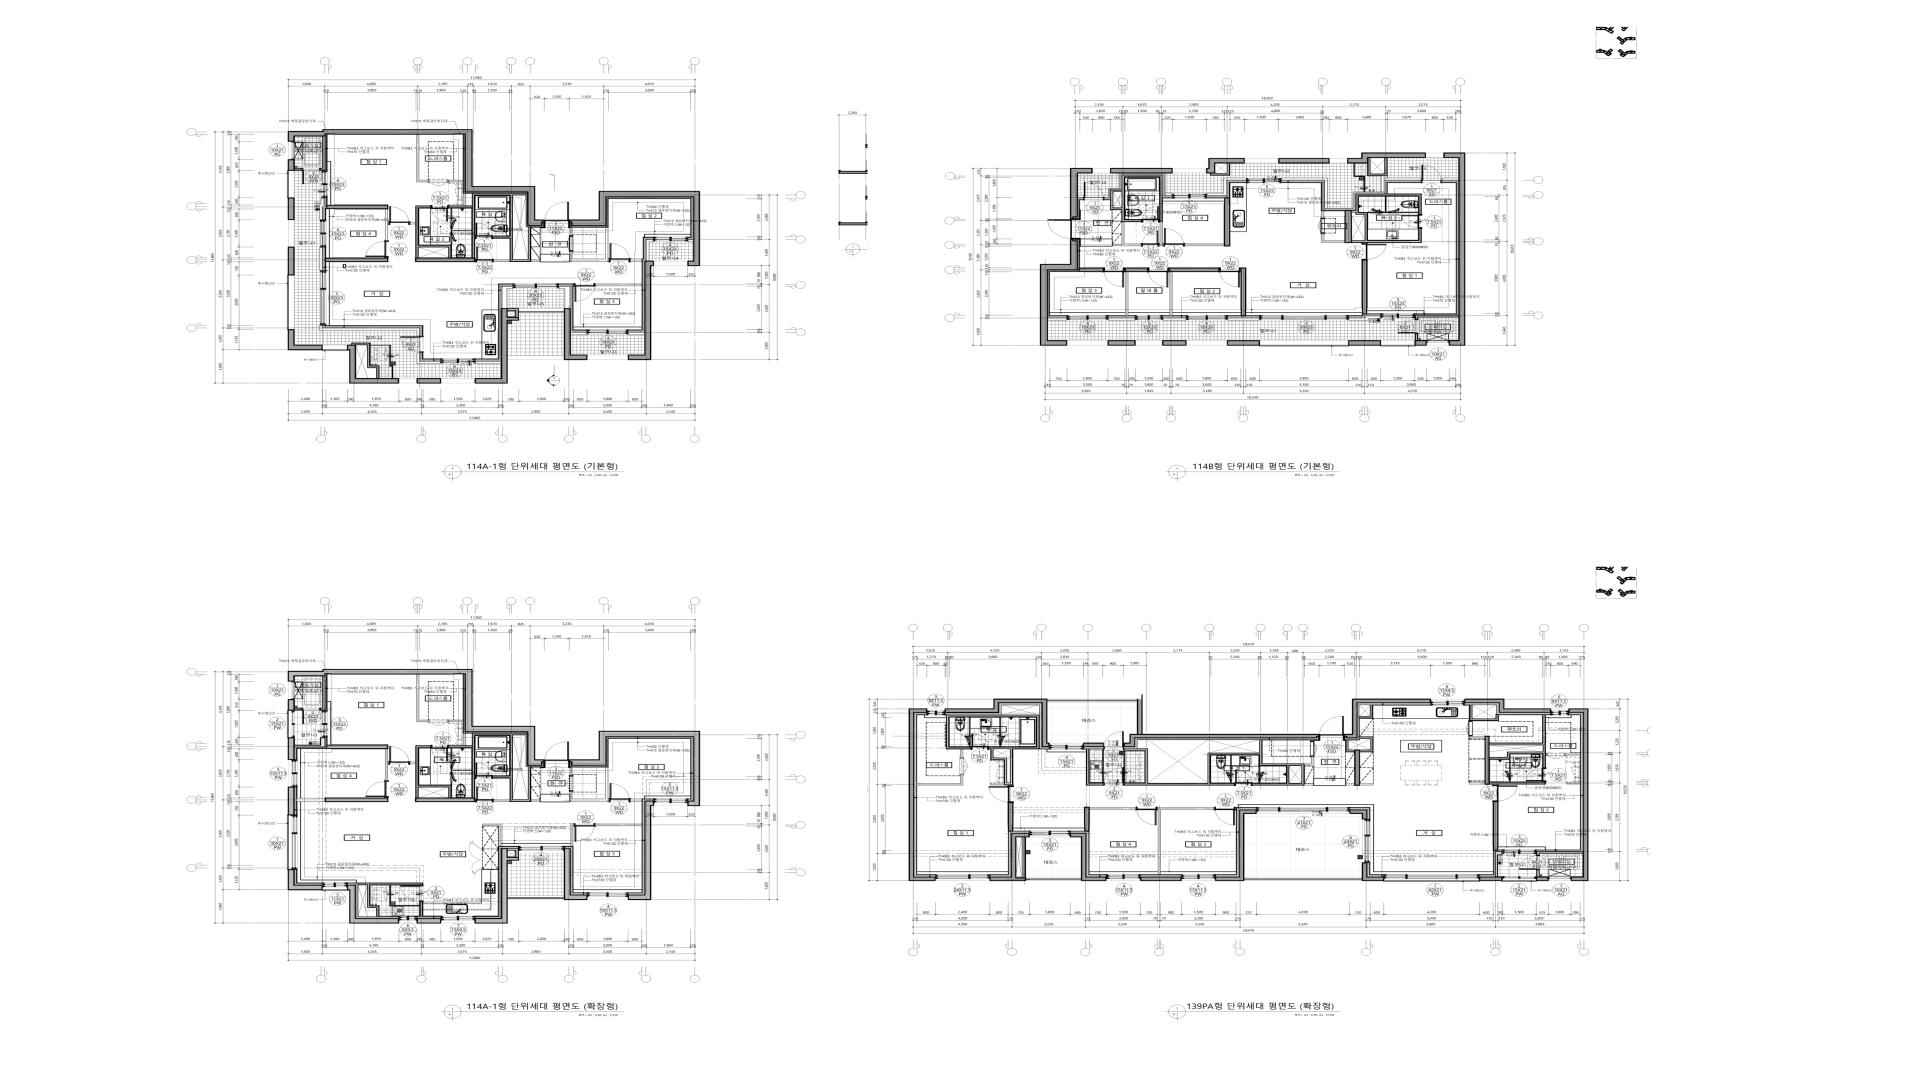door: (543, 742, 570, 769), (1047, 219, 1081, 239), (543, 203, 570, 228), (1319, 716, 1344, 741), (1361, 243, 1387, 261), (608, 783, 630, 803), (608, 243, 630, 262), (1218, 268, 1241, 287), (1147, 268, 1170, 287), (1102, 268, 1125, 287), (1493, 785, 1518, 802), (989, 786, 1014, 803), (388, 207, 410, 225), (365, 781, 389, 798), (574, 284, 595, 302), (1215, 807, 1236, 825), (1137, 807, 1158, 825), (574, 823, 595, 841), (388, 746, 409, 765), (1163, 228, 1184, 247), (400, 886, 423, 902), (365, 241, 389, 257), (400, 336, 423, 352), (1104, 732, 1124, 750), (1104, 767, 1124, 786), (1422, 165, 1441, 183), (1084, 182, 1104, 200), (1519, 855, 1540, 870), (475, 762, 493, 779), (971, 733, 989, 750), (302, 167, 320, 185), (1526, 767, 1547, 782), (1398, 319, 1419, 334), (431, 745, 448, 762), (1142, 206, 1159, 223), (302, 708, 320, 724), (1234, 770, 1253, 786), (475, 787, 493, 803), (475, 247, 493, 262), (475, 223, 493, 239), (1402, 215, 1423, 228), (431, 206, 448, 222), (1142, 231, 1159, 247), (1545, 753, 1565, 760), (429, 179, 448, 186), (960, 760, 968, 774), (429, 720, 448, 725), (1319, 218, 1325, 233), (1466, 721, 1473, 736)
wall: (287, 669, 543, 766), (287, 129, 543, 225), (570, 191, 700, 266), (570, 731, 700, 806), (1124, 699, 1319, 748), (1124, 740, 1313, 786), (945, 715, 1039, 786), (448, 733, 539, 802), (448, 194, 539, 262), (944, 699, 1050, 748), (909, 708, 935, 881), (1444, 153, 1465, 345), (1040, 239, 1077, 345), (1158, 807, 1215, 874), (1110, 175, 1163, 247), (1344, 699, 1431, 738), (475, 848, 520, 924), (1569, 708, 1589, 881), (1352, 194, 1422, 243), (475, 309, 520, 384), (1490, 715, 1545, 767), (1216, 810, 1257, 881), (628, 800, 654, 901), (628, 261, 654, 360), (409, 745, 452, 798), (359, 882, 423, 916), (410, 206, 452, 257), (347, 885, 400, 924), (347, 345, 400, 384), (989, 833, 1030, 881), (1367, 158, 1422, 193), (1069, 833, 1106, 881), (1282, 178, 1328, 208), (570, 228, 608, 262), (570, 767, 608, 802), (564, 848, 588, 901), (1465, 699, 1551, 713), (1069, 167, 1093, 219), (564, 309, 587, 360), (319, 326, 419, 336), (351, 343, 380, 378), (1348, 153, 1425, 164), (287, 330, 322, 351), (287, 869, 322, 890), (1207, 178, 1246, 195), (1087, 749, 1104, 786), (417, 675, 429, 723), (417, 135, 429, 182), (1207, 158, 1245, 173), (916, 774, 963, 786), (1469, 705, 1499, 721), (1245, 877, 1362, 881), (1362, 862, 1385, 881), (483, 824, 501, 847), (1110, 167, 1172, 174), (1047, 699, 1137, 703), (326, 257, 388, 262), (1493, 802, 1499, 851), (1224, 198, 1230, 247), (327, 204, 388, 210), (294, 737, 324, 748), (415, 257, 475, 262), (1362, 261, 1367, 315), (1278, 158, 1329, 164), (501, 286, 513, 309), (1485, 736, 1490, 785), (1241, 268, 1246, 316), (417, 353, 440, 364), (324, 798, 388, 802), (326, 745, 388, 749), (559, 286, 570, 309), (415, 798, 475, 802), (1211, 164, 1230, 175), (1360, 737, 1374, 753), (1026, 877, 1081, 881), (508, 895, 563, 899), (1321, 233, 1345, 243), (1345, 211, 1352, 243), (1354, 749, 1360, 786), (1170, 268, 1218, 272), (287, 247, 294, 276), (1007, 803, 1014, 832), (1536, 851, 1582, 855), (287, 787, 294, 815), (320, 676, 326, 711), (1125, 272, 1129, 316), (320, 137, 326, 170), (1495, 851, 1502, 877), (1360, 705, 1373, 719), (1348, 340, 1381, 345), (1228, 340, 1261, 345), (1415, 315, 1458, 319), (1349, 810, 1367, 819), (1141, 877, 1182, 881), (287, 198, 294, 220), (287, 737, 294, 760), (1490, 782, 1545, 785), (1108, 340, 1135, 345), (646, 240, 653, 261), (417, 378, 442, 384), (417, 918, 442, 923), (1084, 807, 1089, 832), (1162, 340, 1187, 345), (1089, 807, 1137, 810), (595, 284, 642, 286), (1349, 316, 1381, 320), (1345, 740, 1354, 753), (319, 198, 324, 220), (1170, 272, 1172, 316), (1083, 742, 1104, 748), (297, 798, 324, 802), (1023, 837, 1026, 877), (1184, 244, 1224, 247), (508, 309, 518, 318), (508, 848, 518, 857), (319, 247, 323, 270), (1480, 877, 1503, 881), (1079, 268, 1102, 272), (1125, 268, 1147, 272), (385, 749, 388, 781), (385, 210, 388, 241), (1228, 318, 1259, 320), (287, 160, 294, 171), (287, 699, 294, 711), (1108, 318, 1135, 320), (475, 361, 501, 364), (595, 824, 642, 825), (1163, 318, 1187, 320), (1415, 340, 1427, 345), (571, 824, 574, 847), (419, 902, 423, 916), (1536, 877, 1549, 881), (1048, 318, 1067, 320), (630, 258, 642, 262), (1441, 178, 1458, 181), (1469, 782, 1485, 785), (1469, 736, 1485, 738), (1230, 244, 1246, 247), (571, 332, 587, 335), (448, 720, 463, 723), (1361, 783, 1373, 786), (630, 799, 642, 802), (1536, 870, 1540, 877), (1415, 334, 1419, 340), (1346, 783, 1354, 786), (570, 228, 572, 236), (570, 767, 572, 775), (294, 167, 302, 170), (1565, 754, 1580, 756), (448, 181, 463, 182), (295, 708, 302, 711), (1567, 783, 1580, 785), (1321, 211, 1324, 218), (1166, 193, 1172, 195), (1077, 195, 1084, 198), (1104, 195, 1109, 198), (688, 240, 694, 243)
window: (1385, 874, 1480, 882), (286, 815, 298, 869), (1257, 807, 1349, 814), (1261, 340, 1348, 347), (1259, 315, 1349, 320), (286, 276, 294, 330), (518, 845, 564, 853), (935, 874, 989, 881), (1362, 819, 1370, 862), (320, 270, 326, 326), (587, 893, 628, 899), (654, 798, 687, 806), (1030, 831, 1069, 837), (289, 760, 298, 787), (286, 711, 295, 737), (513, 284, 559, 289), (518, 309, 563, 314), (1431, 699, 1465, 705), (1182, 874, 1216, 881), (1106, 874, 1141, 881), (1381, 340, 1415, 347), (323, 882, 347, 891), (508, 356, 563, 360), (1050, 744, 1083, 750), (442, 916, 475, 923), (587, 355, 628, 360), (587, 330, 628, 335), (1187, 315, 1228, 320), (1067, 315, 1108, 320), (1067, 340, 1108, 345), (286, 171, 294, 198), (1246, 178, 1282, 183), (440, 359, 475, 364), (1502, 849, 1536, 855), (1172, 194, 1207, 199), (442, 378, 475, 384), (654, 261, 687, 266), (320, 711, 327, 737), (1503, 877, 1536, 882), (1245, 158, 1278, 164), (1187, 342, 1226, 345), (1135, 315, 1163, 320), (653, 237, 688, 241), (322, 171, 327, 198), (320, 220, 326, 247), (289, 220, 294, 247), (1172, 169, 1207, 173), (1381, 314, 1415, 318), (322, 345, 347, 351), (1551, 709, 1569, 716), (1427, 340, 1449, 345), (927, 709, 944, 716), (400, 916, 417, 923), (1135, 342, 1162, 345), (1329, 158, 1348, 164), (400, 378, 417, 384), (289, 682, 294, 699), (289, 142, 294, 160), (1427, 153, 1444, 158), (1549, 877, 1571, 881), (1093, 169, 1110, 173)
